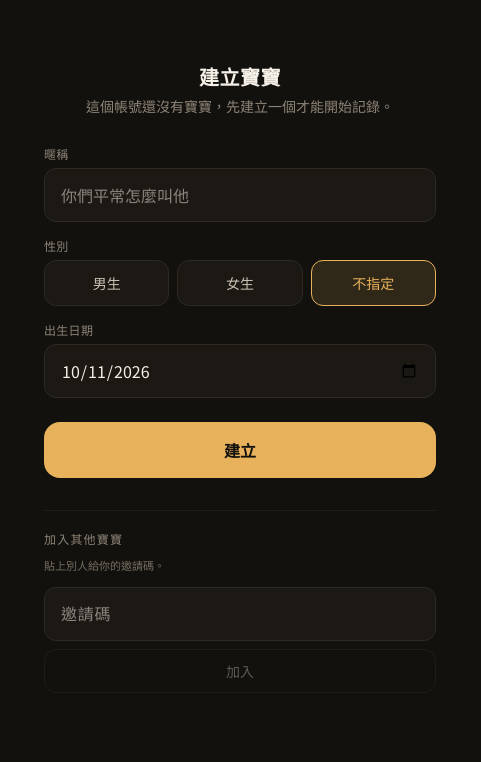
Scenario: an account with no baby yet › gets all the way from an empty database to a recorded event
This screenshot has width=481, height=762.
Type "小葉" into the field labelled "暱稱".
click(240, 195); type("小葉")  # box [44, 168, 436, 222]
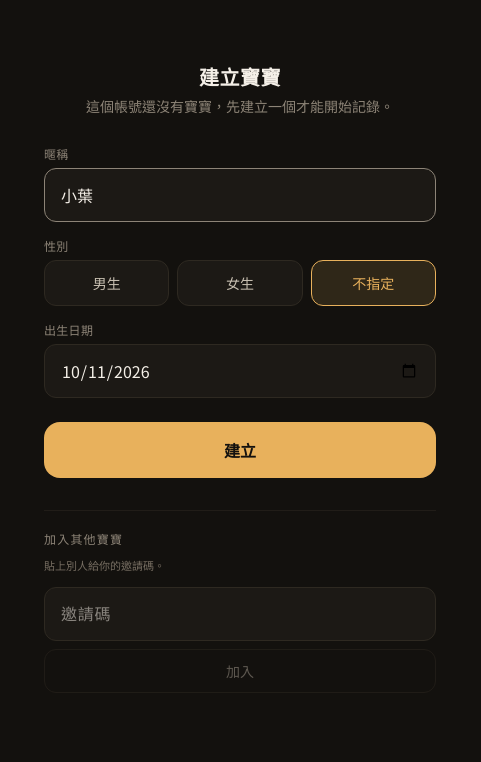
Click the button "女生".
click(240, 283)  # box [177, 260, 303, 306]
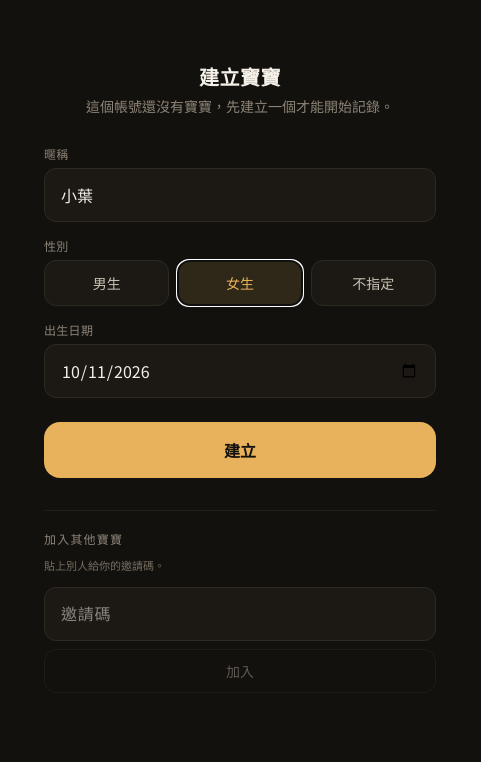
Type "2026-03-08" into the date field labelled "出生日期".
click(240, 371); type("2026-03-08")  # box [44, 344, 436, 398]
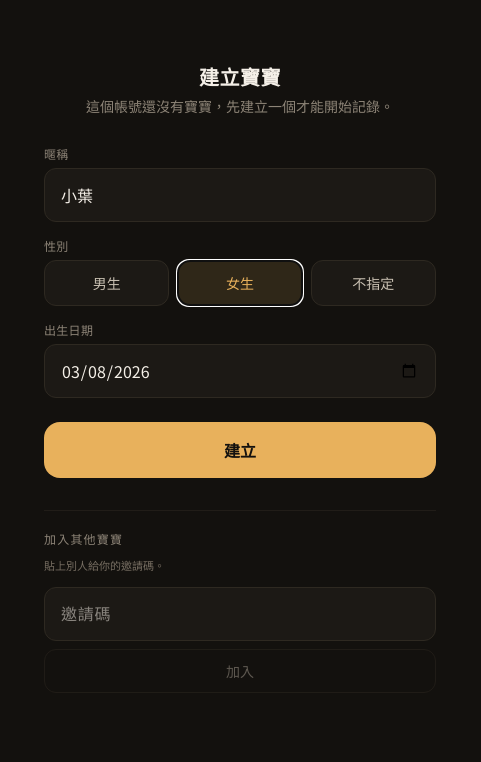
Click the button with test id "submit".
click(240, 450)  # box [44, 422, 436, 478]
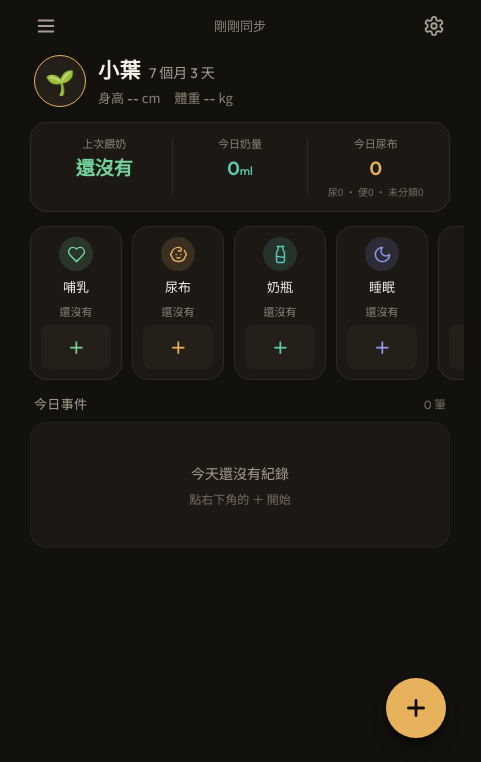
Now the text "上次餵奶" is shown, box [82, 135, 126, 152]
Now the heading "小葉" is shown, box [98, 54, 141, 86]
Click the link named "新增事件".
click(416, 708)  # box [386, 678, 446, 738]
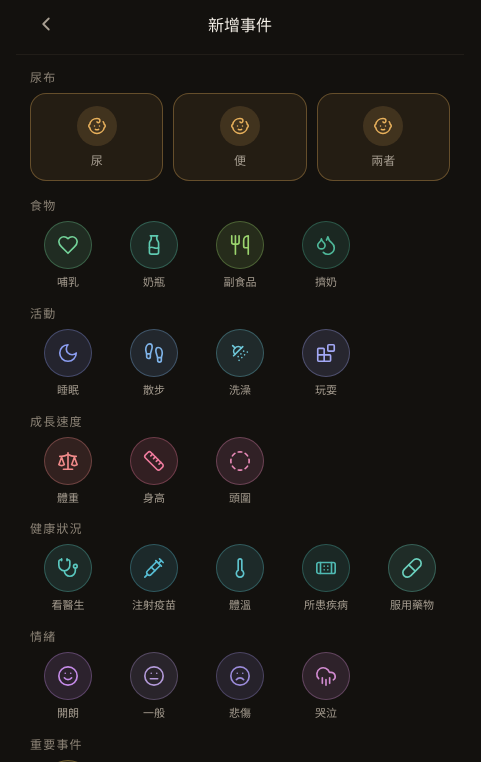
Click the button "尿".
click(97, 137)  # box [30, 93, 163, 181]
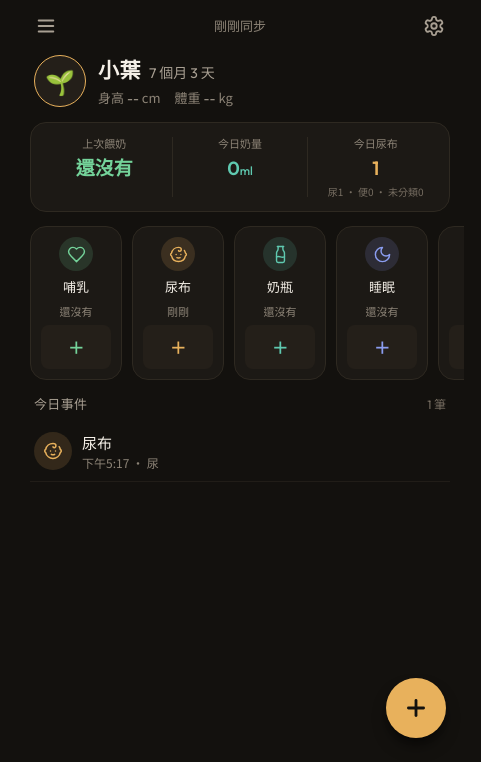
Now the text "上次餵奶" is shown, box [82, 135, 126, 152]
